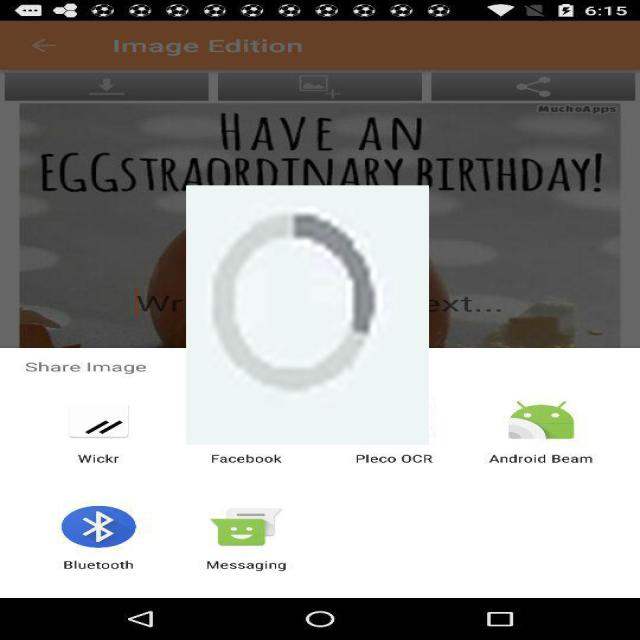misdirection: (186, 185, 429, 445)
